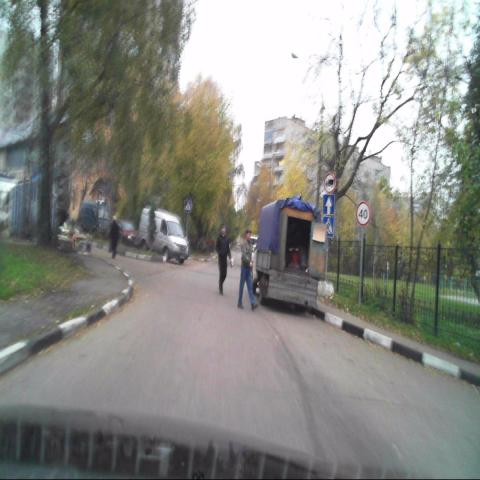3_24: (356, 202, 370, 227)
3_4_1: (324, 173, 336, 194)
5_19_1: (322, 216, 334, 238), (184, 198, 192, 212)
5_5: (322, 194, 334, 215)
